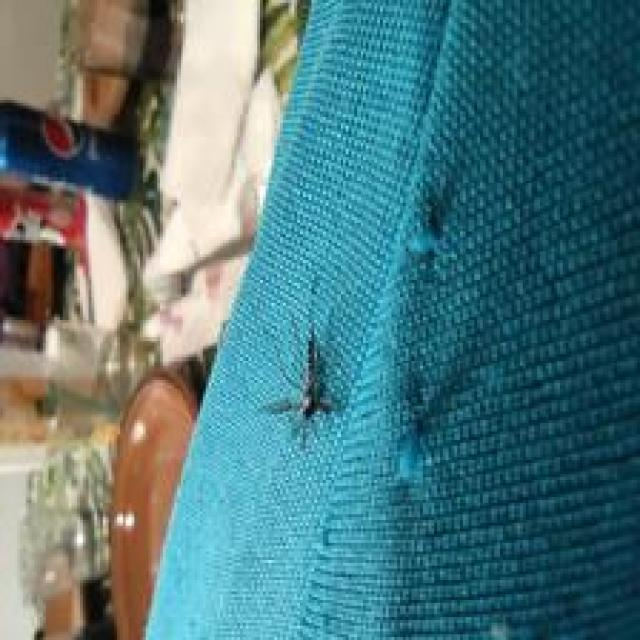Aedes albopictus: (257, 324, 340, 447)
